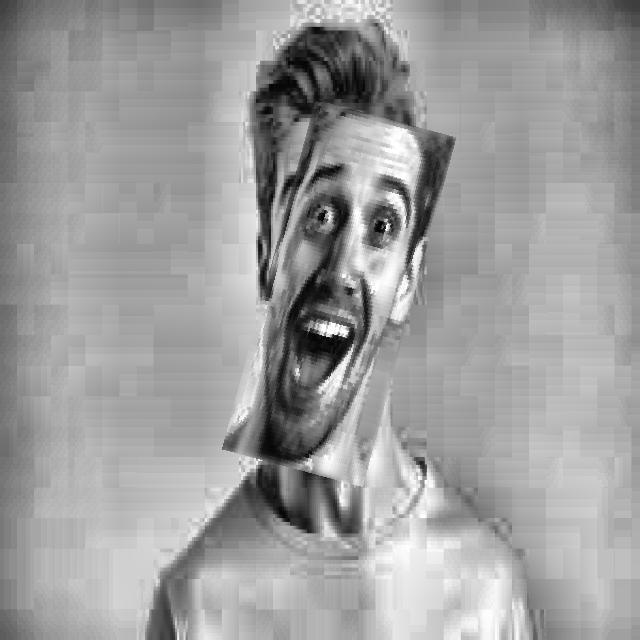surprise: (244, 107, 434, 481)
